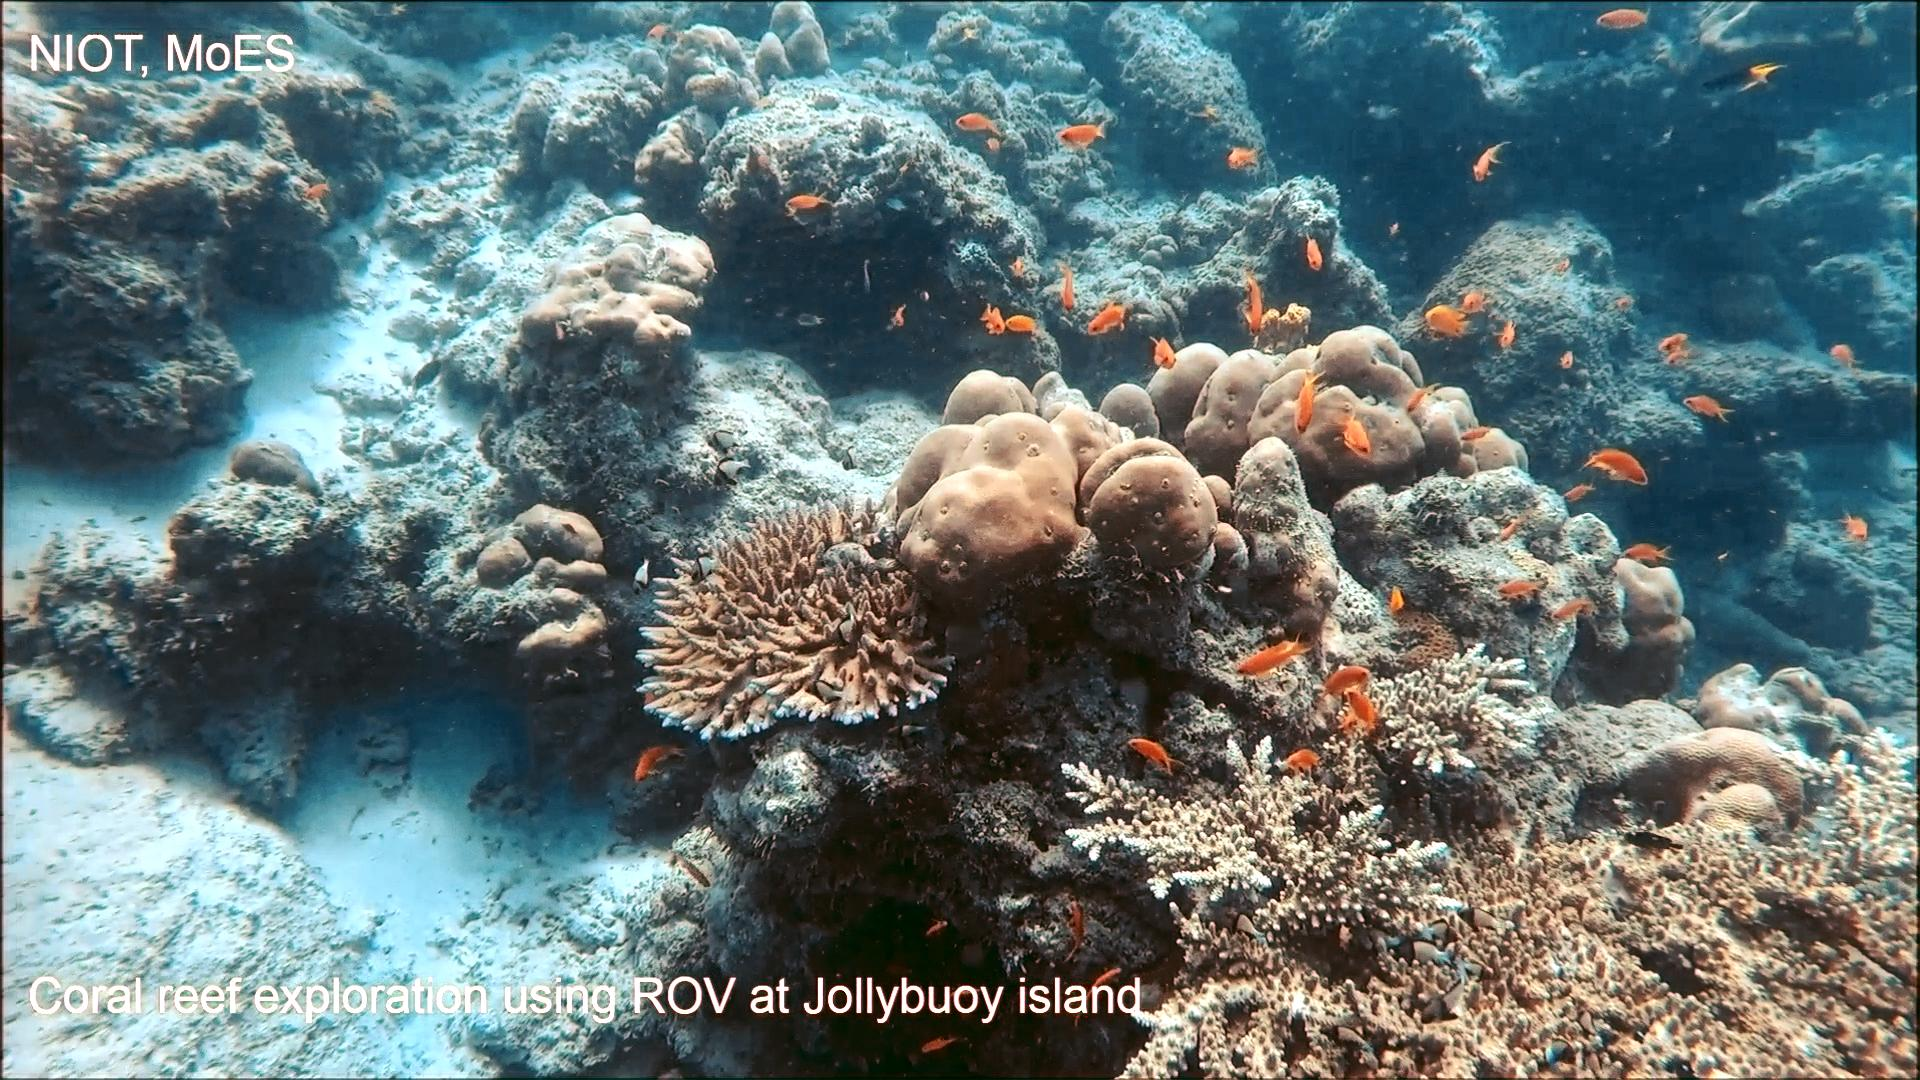Porites-Porites pukoensis: (884, 360, 1226, 616), (1131, 318, 1538, 493)
